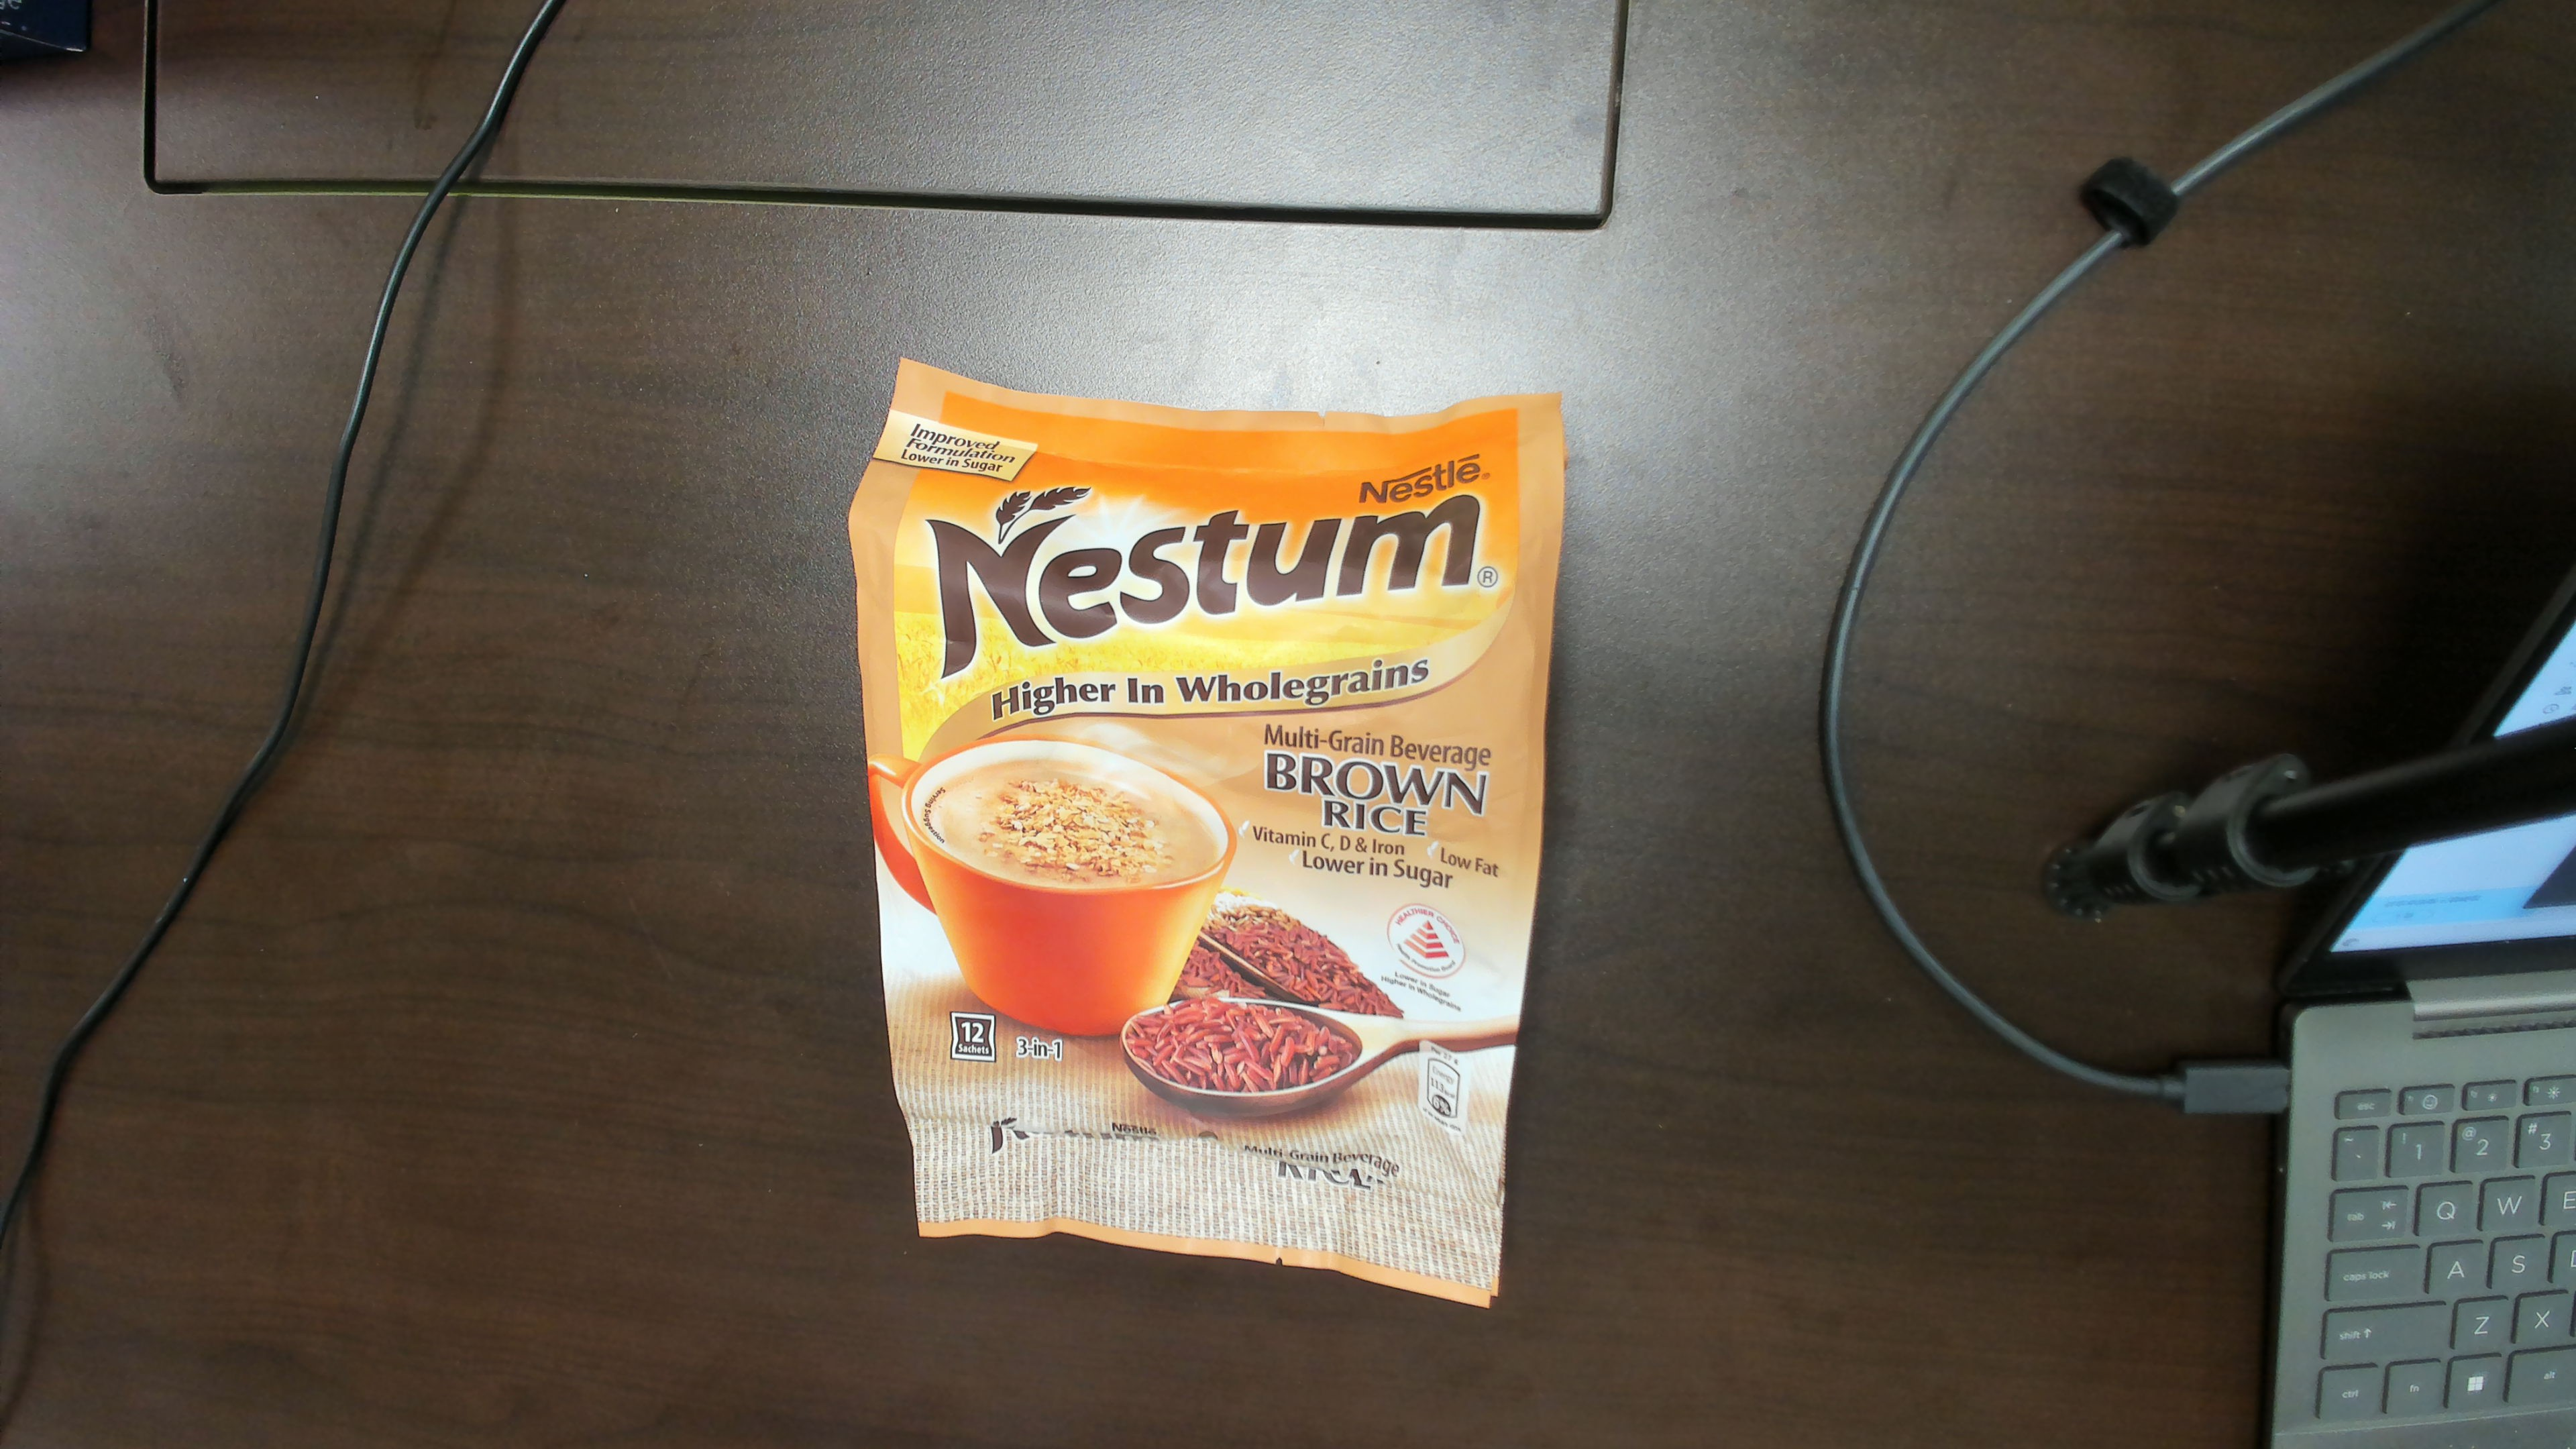CerealBeverage-powder_300-399g_NonHalal_Healthy: (918, 441, 1491, 1187)
